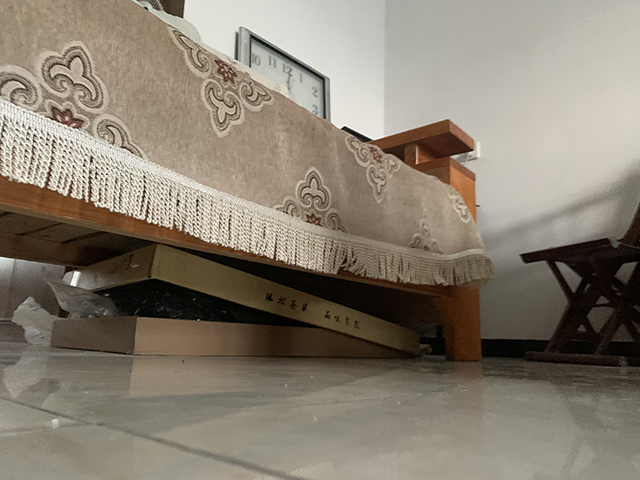cabinet: (1, 256, 64, 343)
sofa: (1, 1, 495, 362)
stool: (519, 204, 640, 368)
